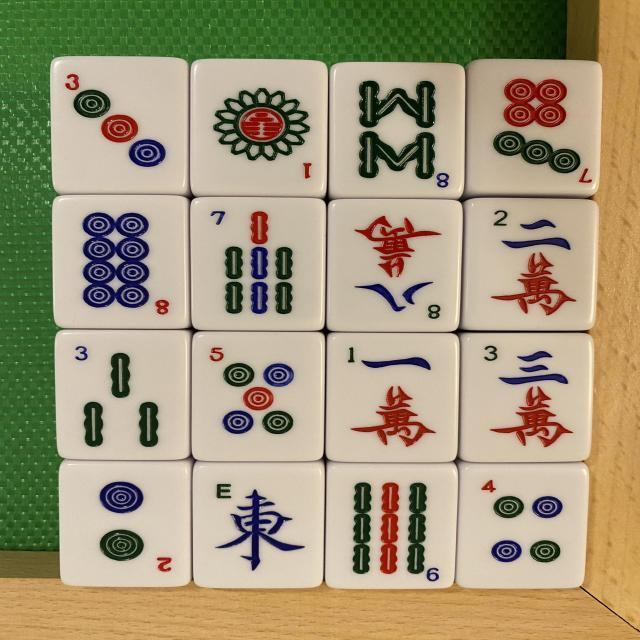hwe: (194, 466, 326, 594)
sb3: (60, 336, 192, 463)
sb7: (190, 201, 318, 331)
sb8: (332, 64, 460, 192)
sb9: (326, 466, 454, 592)
sc1: (326, 332, 456, 459)
sc2: (464, 200, 592, 333)
sc3: (462, 334, 592, 466)
sc8: (331, 205, 462, 334)
sd1: (195, 60, 326, 194)
sd2: (64, 464, 192, 590)
sd3: (56, 58, 187, 194)
sd4: (460, 463, 591, 590)
sd5: (196, 334, 326, 462)
sd7: (472, 62, 602, 198)
sd8: (59, 196, 189, 328)
